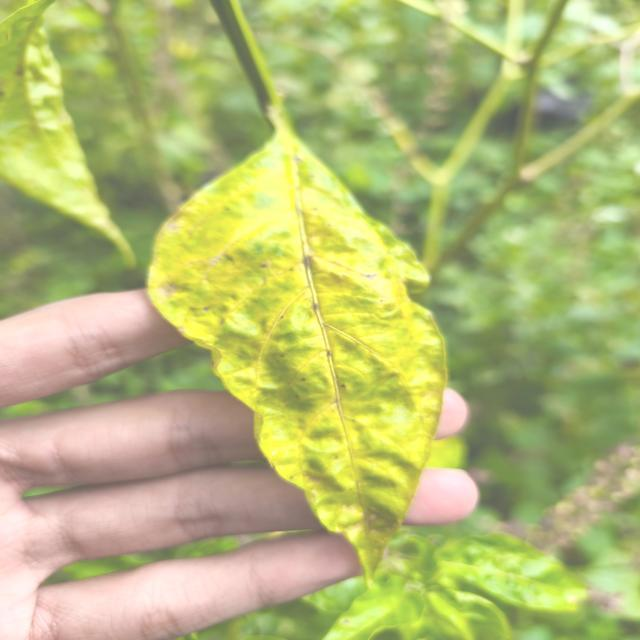Virus Kuning: (145, 131, 449, 587), (0, 0, 137, 270)
